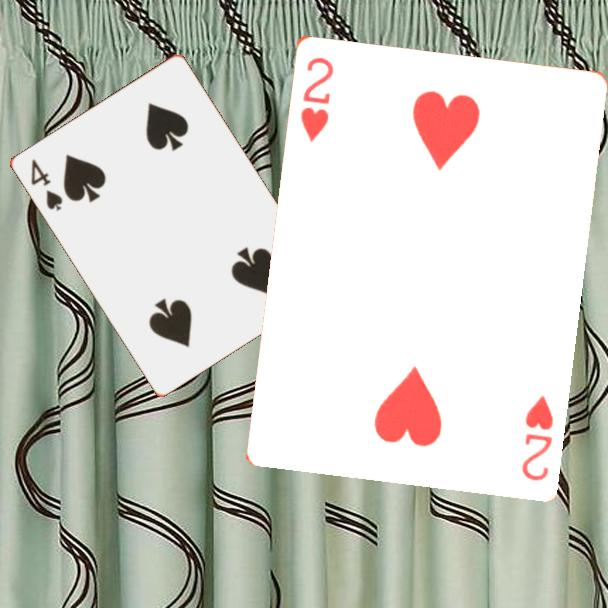h02: (296, 53, 336, 144), (517, 391, 556, 483)
s04: (27, 156, 65, 214)
